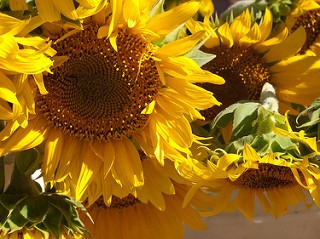flower: (0, 0, 227, 210), (174, 138, 320, 219)
